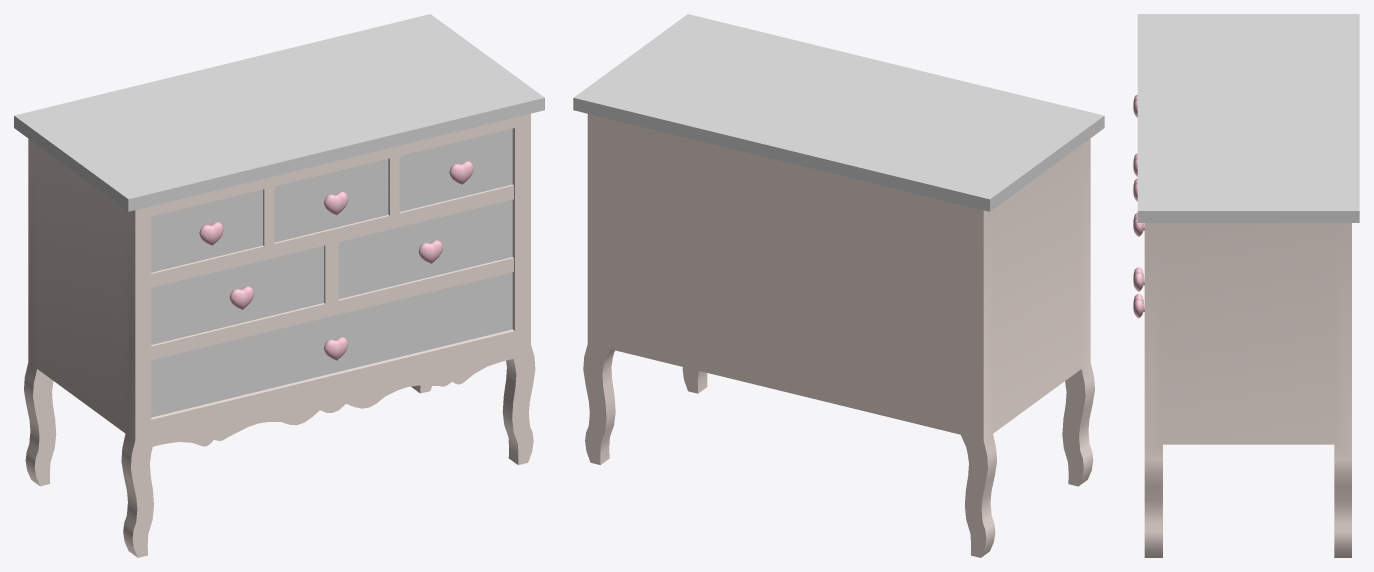
Rendered from table0_K.fbx.
3 renders of one model, left to right at view 1: azimuth 30°, elevation 25°; view 2: azimuth 150°, elevation 25°; view 3: azimuth 270°, elevation 25°, orthographic. The views are drawn at different scales.
Parts seen in each view (by area): view 1: polySurface14, polySurface13, polySurface9, polySurface15, polySurface7, polySurface11, polySurface3, polySurface5, polySurface1; view 2: polySurface14, polySurface13; view 3: polySurface14, polySurface13.
Part boxes in pixels (bbox=[...]): polySurface14: bbox=[24, 113, 535, 557]; polySurface13: bbox=[14, 14, 544, 211]; polySurface9: bbox=[151, 272, 512, 417]; polySurface15: bbox=[151, 156, 513, 360]; polySurface7: bbox=[338, 200, 512, 299]; polySurface11: bbox=[151, 246, 323, 344]; polySurface3: bbox=[274, 159, 388, 242]; polySurface5: bbox=[399, 128, 512, 211]; polySurface1: bbox=[151, 189, 262, 272]; polySurface14: bbox=[583, 114, 1094, 557]; polySurface13: bbox=[573, 14, 1104, 211]; polySurface14: bbox=[1144, 223, 1351, 557]; polySurface13: bbox=[1137, 14, 1359, 222].
Size of the model in its own units: 103 by 86.04 by 49.95.
